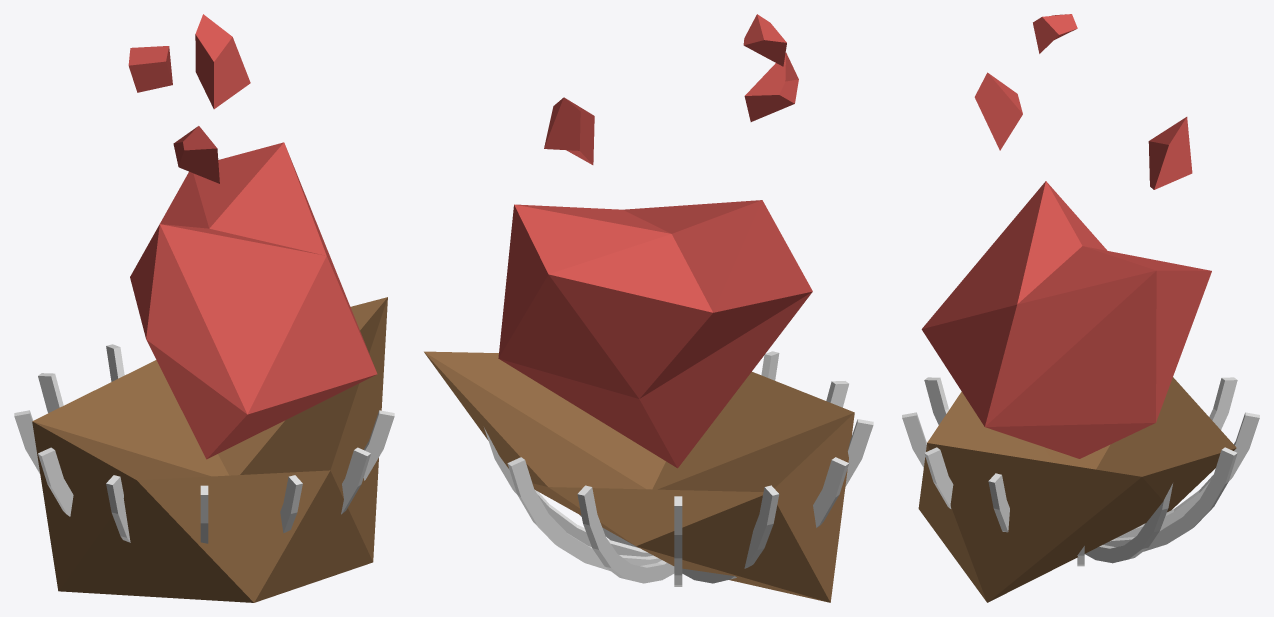
The model's file is Fireplace.fbx.
3 views of the same model, side by side, from view 1: azimuth 30°, elevation 25°; view 2: azimuth 150°, elevation 25°; view 3: azimuth 270°, elevation 25° (orthographic). The views are drawn at different scales.
Visible parts, largest first — view 1: Brazier, Flames 2, Circle; view 2: Flames 2, Brazier, Circle; view 3: Flames 2, Brazier, Circle.
Part boxes in pixels (x1=…): Brazier: x1=32, y1=297, x2=387, y2=602; Flames 2: x1=128, y1=14, x2=377, y2=459; Circle: x1=14, y1=344, x2=394, y2=543; Flames 2: x1=498, y1=14, x2=812, y2=468; Brazier: x1=424, y1=351, x2=854, y2=602; Circle: x1=484, y1=351, x2=873, y2=586; Flames 2: x1=921, y1=14, x2=1211, y2=458; Brazier: x1=918, y1=377, x2=1236, y2=602; Circle: x1=902, y1=377, x2=1259, y2=566.
Bounding box in the file's own units: 113 × 153 × 98.08.
